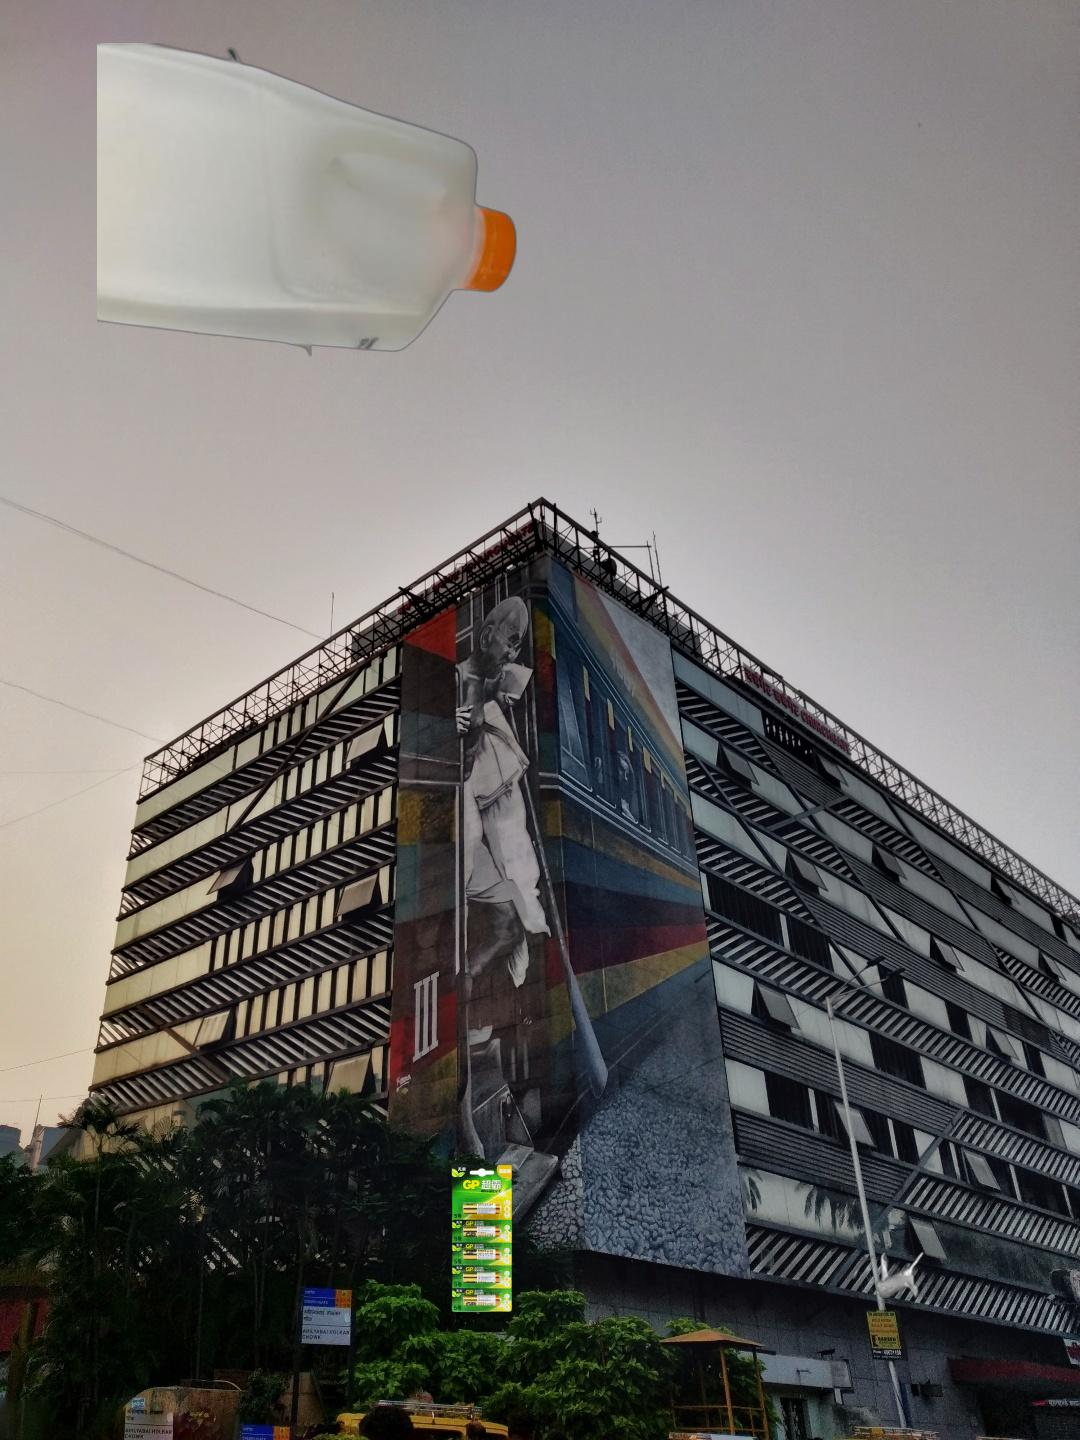battery: (393, 1155, 515, 1315)
paper: (833, 1247, 942, 1304)
plastic-bottles: (98, 43, 521, 359)
